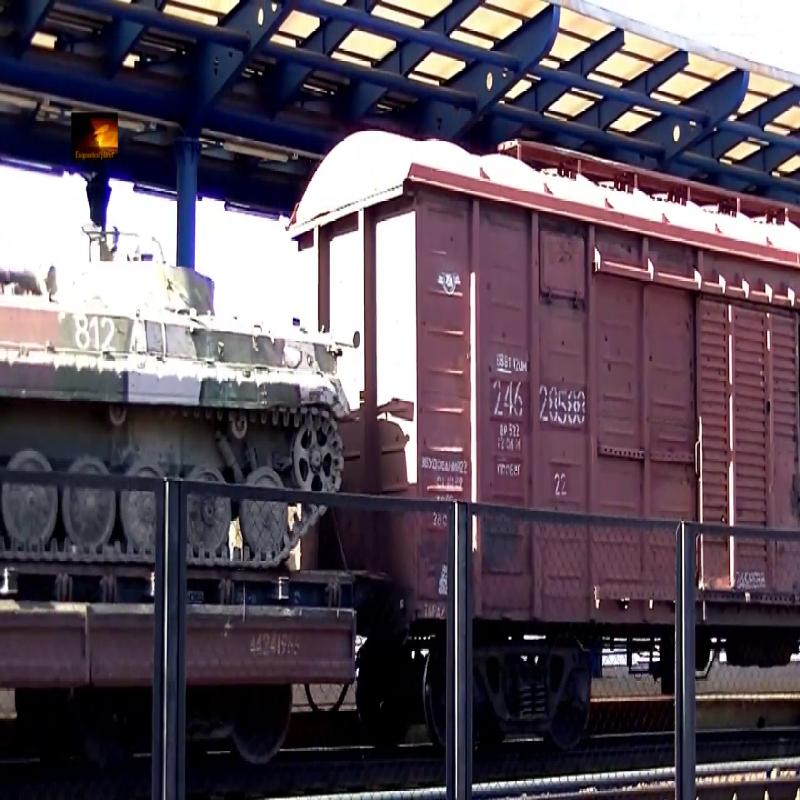train: (380, 5, 800, 769), (1, 6, 317, 772)
